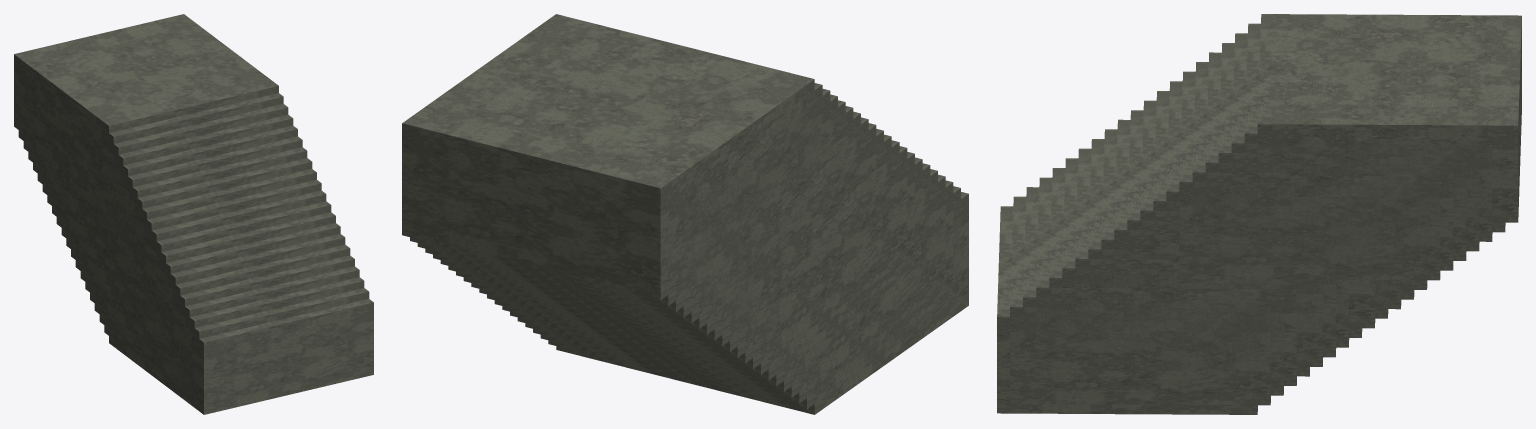
The model's file is Stairs.gltf.
3 renders of one model, left to right at view 1: azimuth 30°, elevation 25°; view 2: azimuth 150°, elevation 25°; view 3: azimuth 270°, elevation 25°, orthographic. The views are drawn at different scales.
Visible parts, largest first — view 1: 立方体.022, 立方体, 立方体.021, 立方体.013, 立方体.011, 立方体.005, 立方体.009, 立方体.004, 立方体.001, 立方体.014, 立方体.008, 立方体.019 (+9 smaller); view 2: 立方体.022, 立方体.009, 立方体.021, 立方体.013, 立方体.004, 立方体, 立方体.018, 立方体.001, 立方体.003, 立方体.008, 立方体.011, 立方体.014 (+9 smaller); view 3: 立方体.022, 立方体.016, 立方体.001, 立方体.017, 立方体.004, 立方体, 立方体.019, 立方体.007, 立方体.006, 立方体.010, 立方体.018, 立方体.003 (+9 smaller).
Part boxes in pixels (bbox=[...]): 立方体.022: bbox=[14, 14, 278, 132]; 立方体: bbox=[109, 299, 373, 414]; 立方体.021: bbox=[18, 65, 283, 186]; 立方体.013: bbox=[52, 141, 316, 268]; 立方体.011: bbox=[61, 190, 326, 306]; 立方体.005: bbox=[90, 255, 354, 371]; 立方体.009: bbox=[71, 208, 335, 326]; 立方体.004: bbox=[94, 266, 359, 381]; 立方体.001: bbox=[104, 288, 369, 403]; 立方体.014: bbox=[47, 141, 312, 208]; 立方体.008: bbox=[75, 223, 340, 333]; 立方体.019: bbox=[28, 114, 293, 186]; 立方体.022: bbox=[402, 14, 814, 300]; 立方体.009: bbox=[494, 146, 907, 368]; 立方体.021: bbox=[410, 83, 822, 305]; 立方体.013: bbox=[463, 123, 876, 345]; 立方体.004: bbox=[533, 174, 945, 397]; 立方体: bbox=[556, 192, 968, 414]; 立方体.018: bbox=[433, 100, 845, 323]; 立方体.001: bbox=[548, 186, 960, 408]; 立方体.003: bbox=[540, 180, 953, 403]; 立方体.008: bbox=[502, 152, 914, 374]; 立方体.011: bbox=[479, 134, 891, 357]; 立方体.014: bbox=[456, 117, 868, 340]; 立方体.022: bbox=[1257, 14, 1521, 222]; 立方体.016: bbox=[1179, 71, 1440, 280]; 立方体.001: bbox=[1010, 196, 1270, 405]; 立方体.017: bbox=[1192, 62, 1453, 270]; 立方体.004: bbox=[1036, 177, 1296, 385]; 立方体: bbox=[997, 206, 1257, 414]; 立方体.019: bbox=[1218, 43, 1479, 251]; 立方体.007: bbox=[1075, 148, 1336, 357]; 立方体.006: bbox=[1062, 158, 1323, 366]; 立方体.010: bbox=[1114, 119, 1375, 328]; 立方体.018: bbox=[1205, 52, 1466, 260]; 立方体.003: bbox=[1023, 187, 1283, 395].
Size of the model in its own units: 10.28 by 12.31 by 20.14.
Materials: 22 (22 with a texture image).
